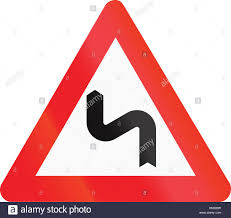Double_bend_left: (1, 1, 231, 204)
